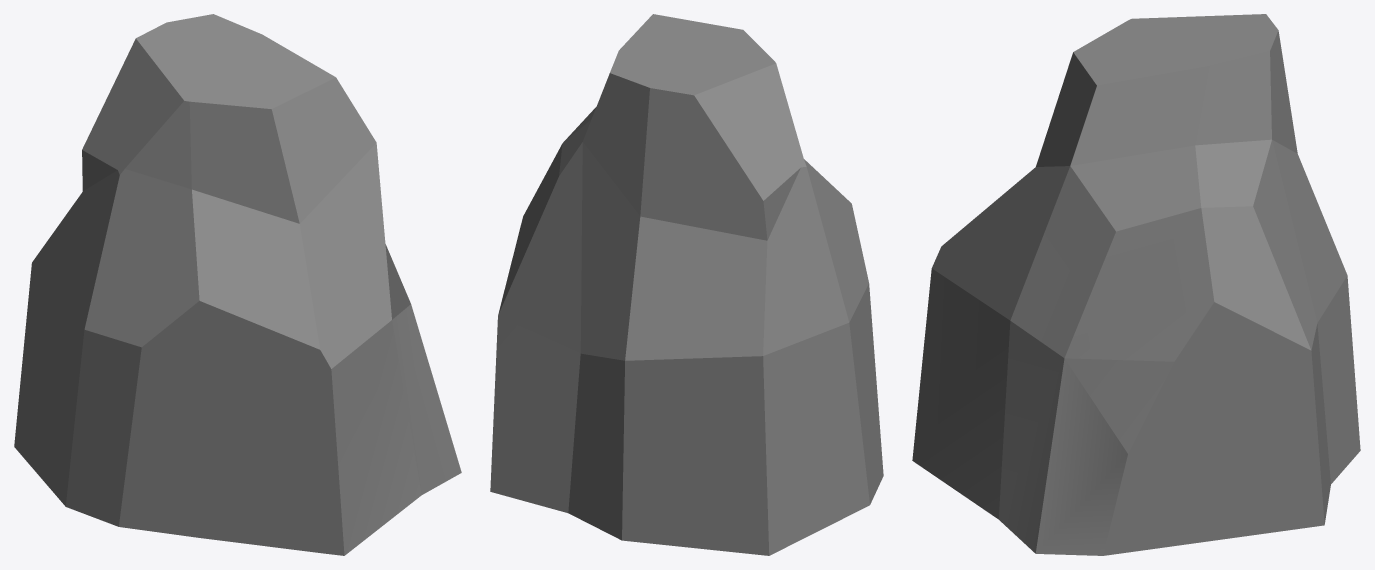
File: HardRock_16.fbx
The picture shows the model from 3 angles, left to right: view 1: azimuth 30°, elevation 25°; view 2: azimuth 150°, elevation 25°; view 3: azimuth 270°, elevation 25°; orthographic projection. The views are drawn at different scales.
Visible parts, largest first — view 1: HardRock_16; view 2: HardRock_16; view 3: HardRock_16.
Boxes of the visible parts, bbox=[...] form: HardRock_16: bbox=[14, 14, 461, 555]; HardRock_16: bbox=[490, 14, 883, 555]; HardRock_16: bbox=[912, 14, 1360, 555].
Size of the model in its own units: 103 by 118 by 111.
